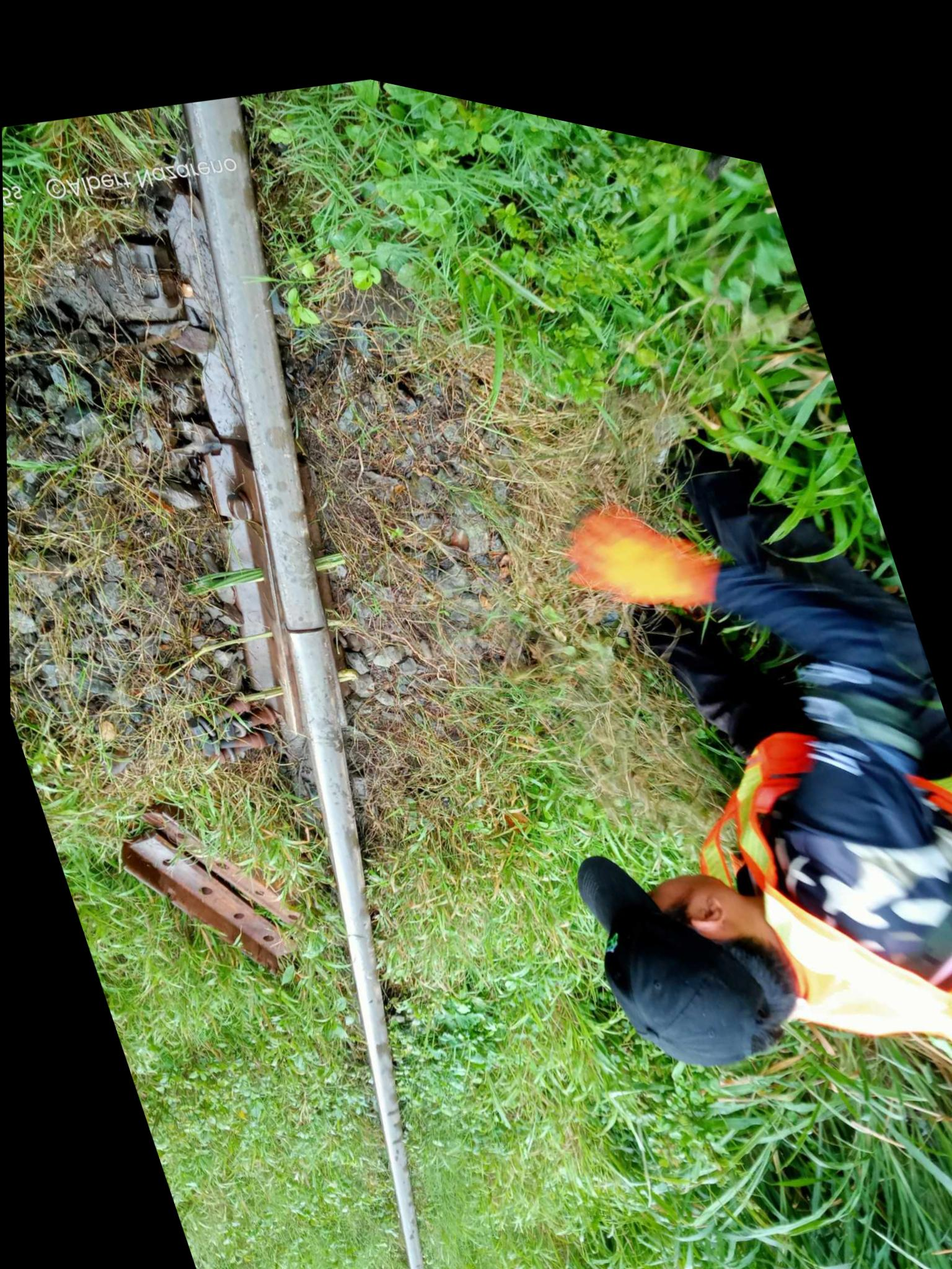person: (254, 563, 349, 665)
